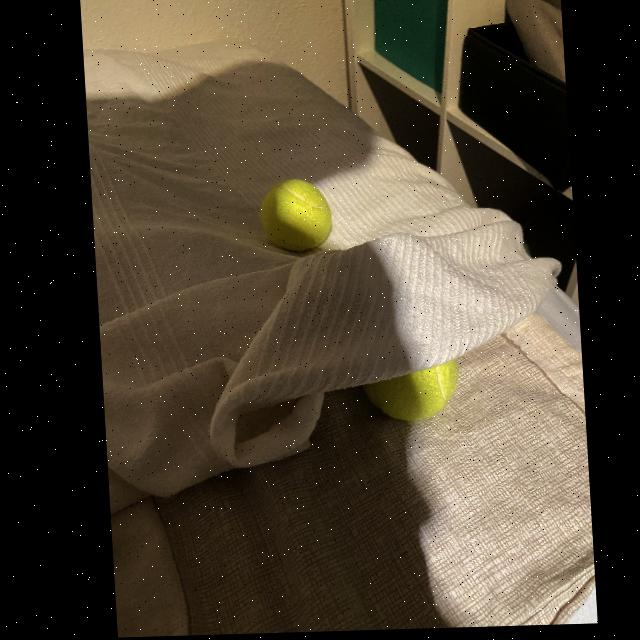Tennisball: (364, 360, 458, 422), (260, 179, 332, 252)
